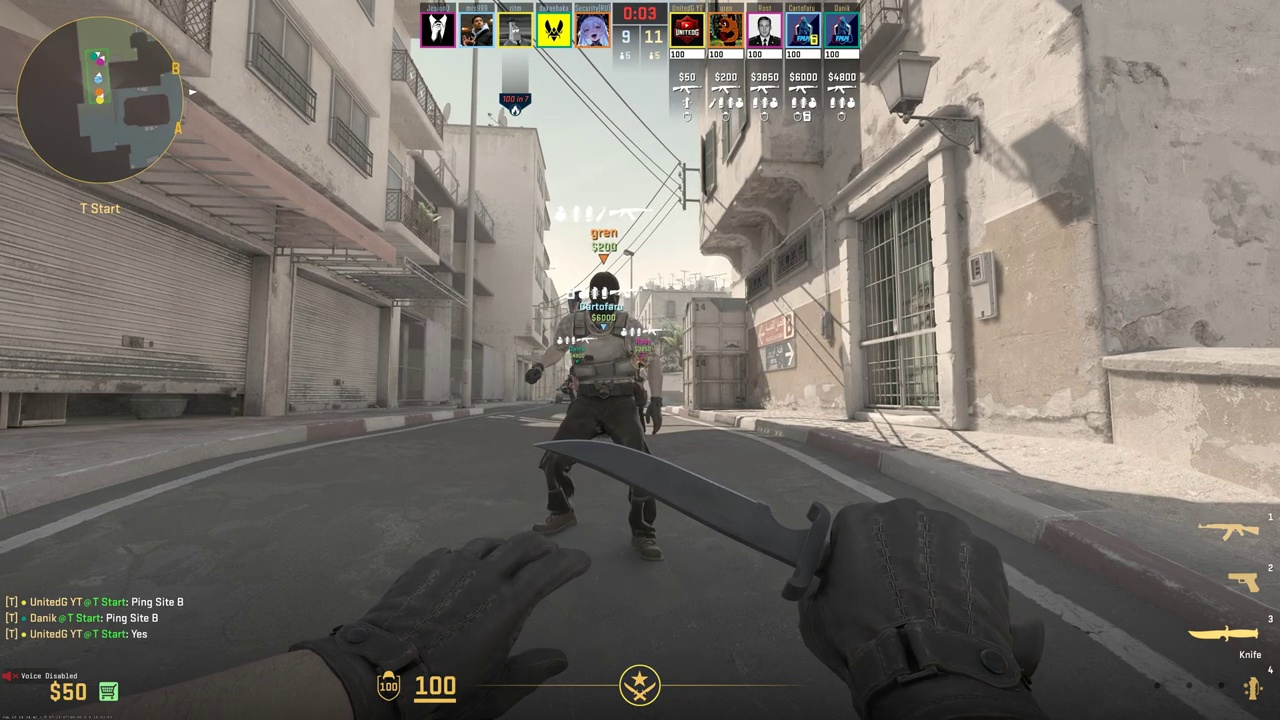Terrorist: (548, 272, 660, 554)
